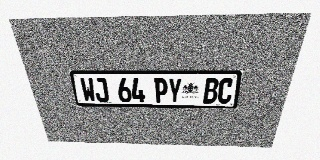4: (130, 78, 145, 103)
6: (117, 78, 132, 102)
B: (203, 78, 219, 103)
C: (217, 78, 234, 104)
J: (93, 78, 109, 102)
P: (154, 78, 168, 103)
W: (79, 78, 97, 102)
Y: (168, 78, 182, 103)
